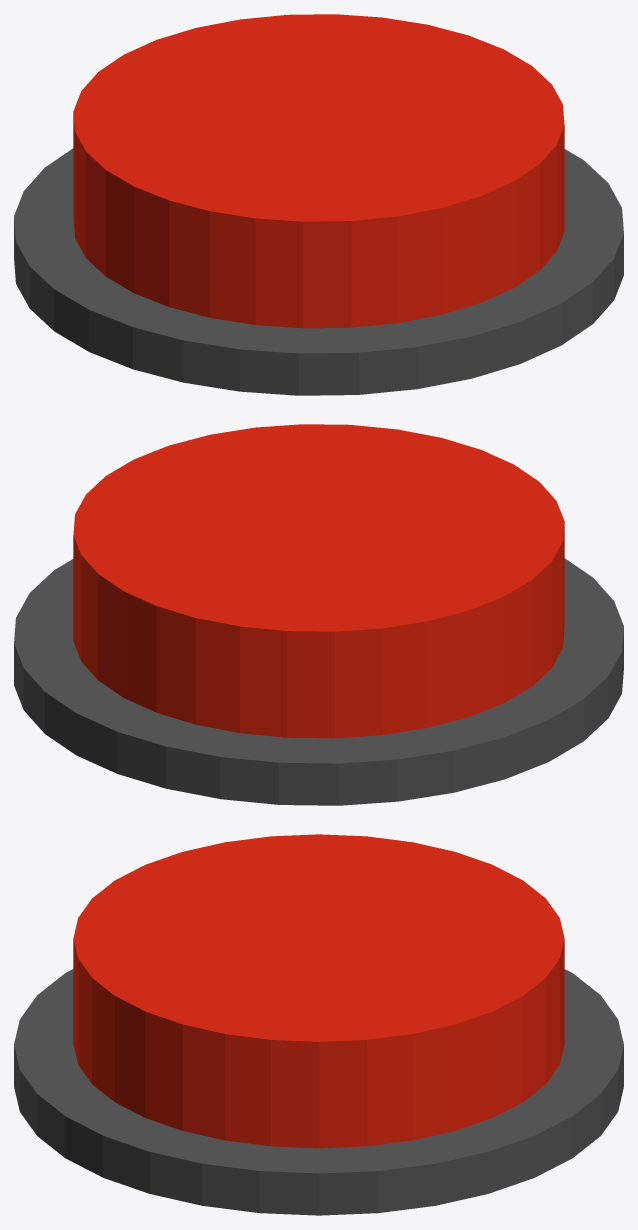
Rendered from big_button.glb.
3 renders of one model, top to bottom at view 1: azimuth 30°, elevation 25°; view 2: azimuth 150°, elevation 25°; view 3: azimuth 270°, elevation 25°, orthographic.
Visible parts, largest first — view 1: Cylinder.003, Cylinder.002; view 2: Cylinder.003, Cylinder.002; view 3: Cylinder.003, Cylinder.002.
Boxes of the visible parts, x1,y1,x2,y2 form: Cylinder.003: [73, 14, 564, 328]; Cylinder.002: [14, 148, 623, 395]; Cylinder.003: [73, 424, 564, 738]; Cylinder.002: [14, 558, 623, 805]; Cylinder.003: [73, 834, 564, 1148]; Cylinder.002: [14, 969, 623, 1215].
Size of the model in its own units: 3.21 by 0.8617 by 3.21.
